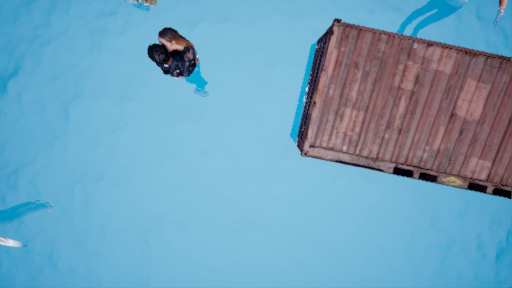person: (149, 27, 207, 90)
